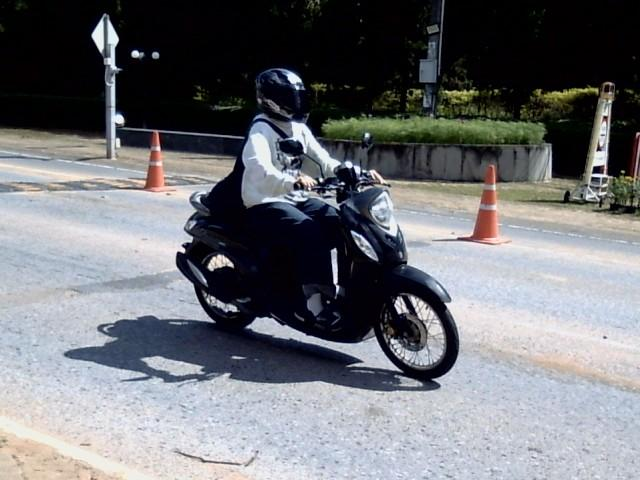helmet: (254, 64, 311, 121)
motor: (176, 161, 458, 378)
person: (208, 68, 340, 328)
